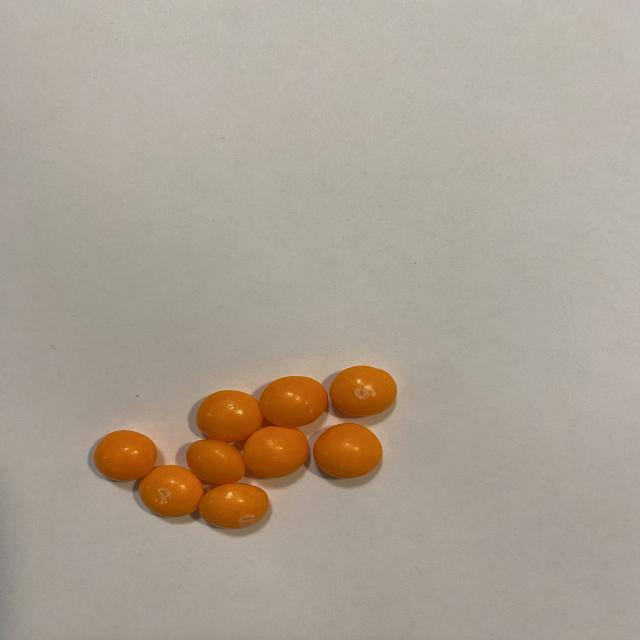smartie: (313, 423, 382, 479), (258, 376, 327, 428), (242, 426, 309, 478), (196, 391, 263, 443), (329, 366, 397, 417), (138, 466, 203, 518), (92, 431, 156, 482), (198, 484, 268, 530), (185, 440, 245, 485)
